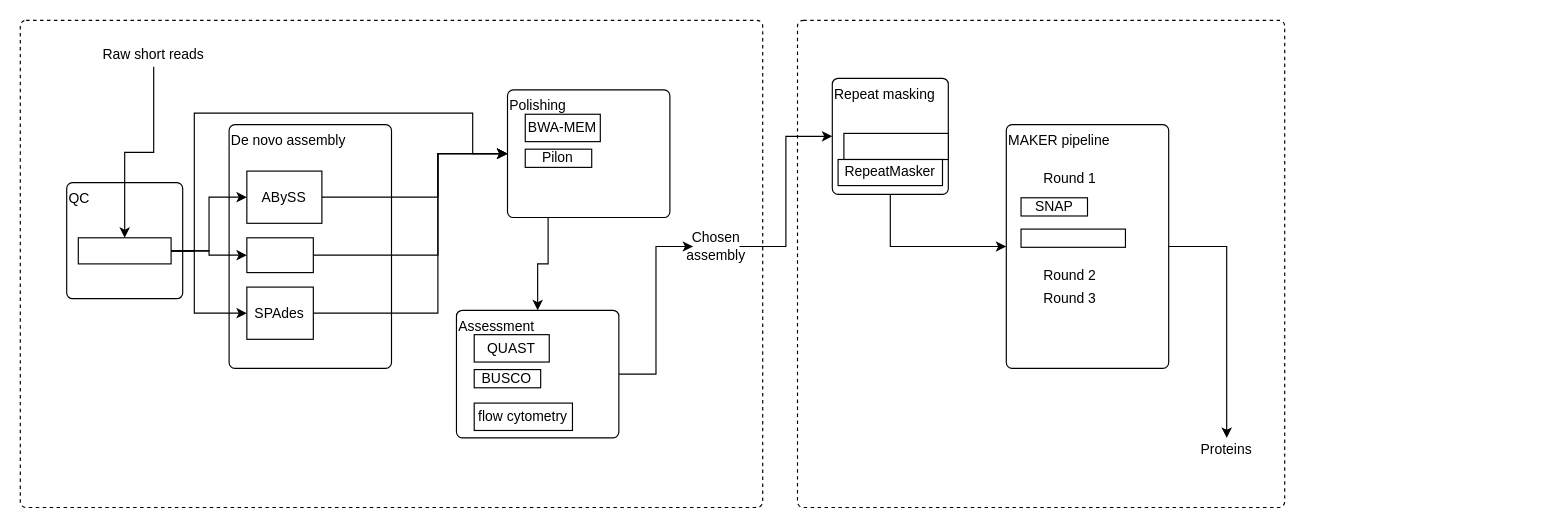
This 1560x528 diagram has some shape labels left out. The centre of each missing label's shape, as x and y in pixels:
AUGUSTUS: pixel 1072 237
MEGAHIT: pixel 279 255
RepeatModeler: pixel 895 146
Trimmomatic: pixel 124 250
